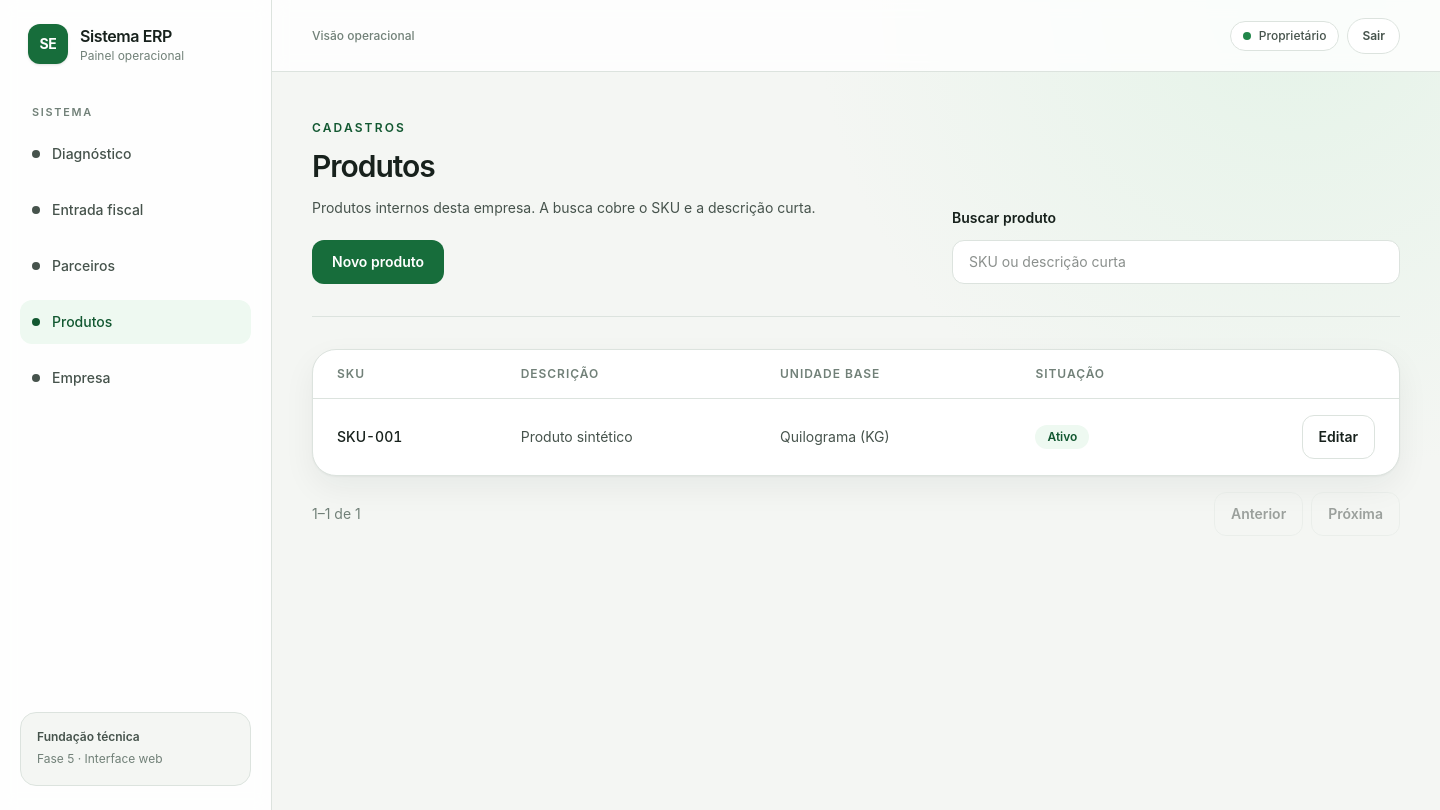
Test: edição de cadastros › edita a descrição do produto e remove a ficha técnica com texto vazio
Click the button with aria-label "Editar SKU-001": x=1338, y=437 [1302,415,1375,459]
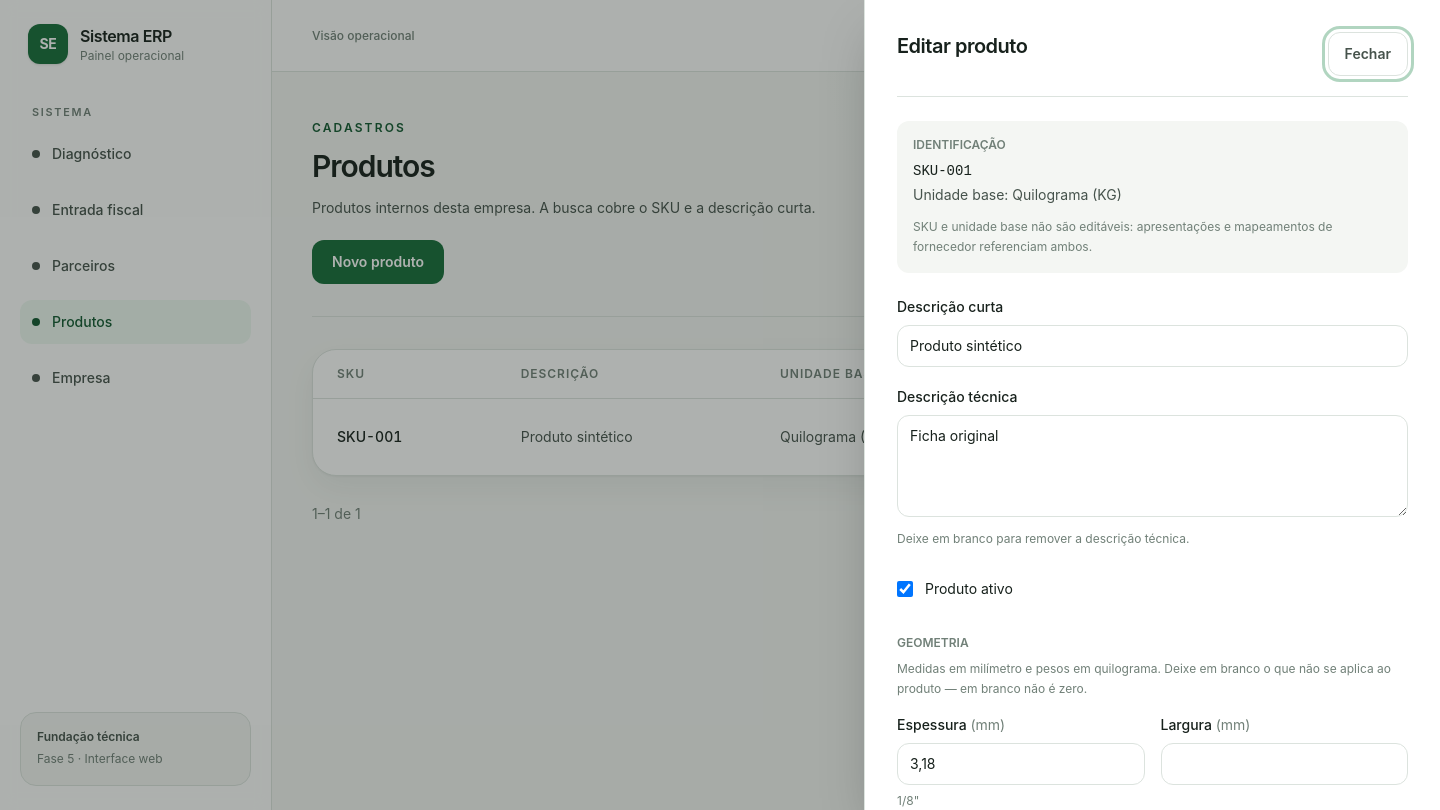
Check: the field labelled "Descrição curta" holds "Produto sintético"
Replace the text in the field labelled "Descrição curta" with "Produto revisado": x=1152, y=346 [897,325,1408,367]
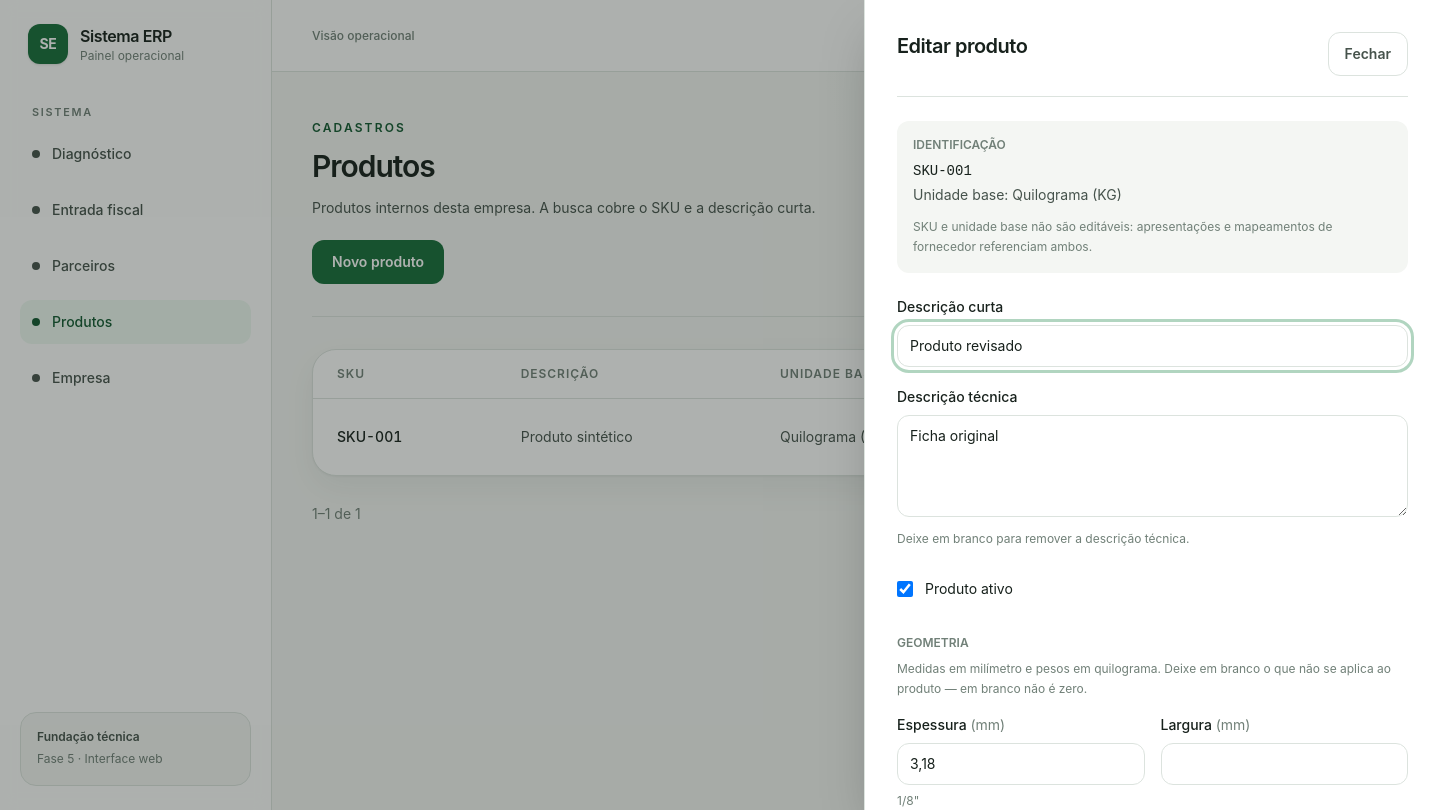
Clear the text box labelled "Descrição técnica": x=1152, y=466 [897,415,1408,517]
(page scrolled)
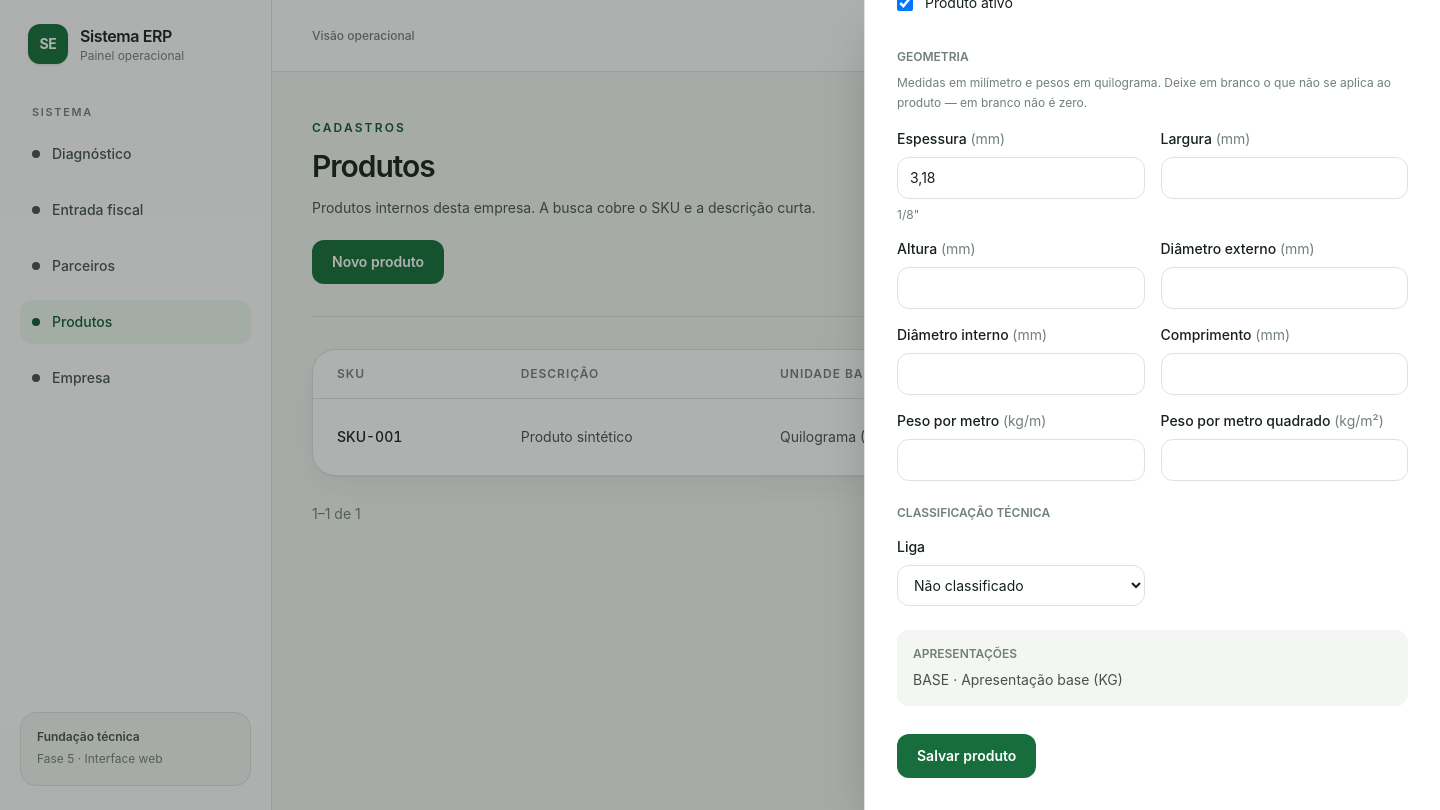
Click the button "Salvar produto": x=967, y=756 [897,734,1036,778]
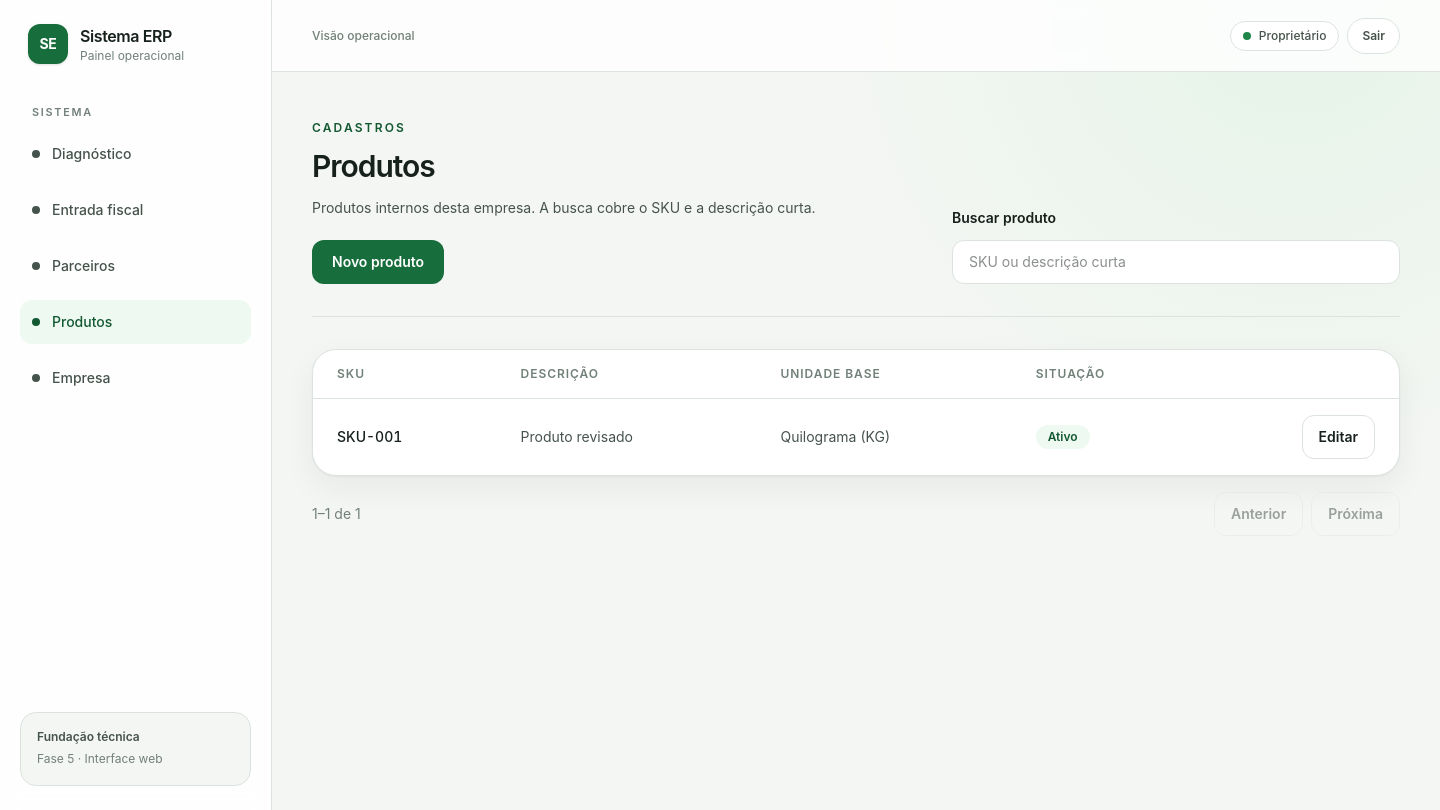
Check: the dialog is gone
Check: the text "Produto revisado" is shown, box [497,398,756,475]
